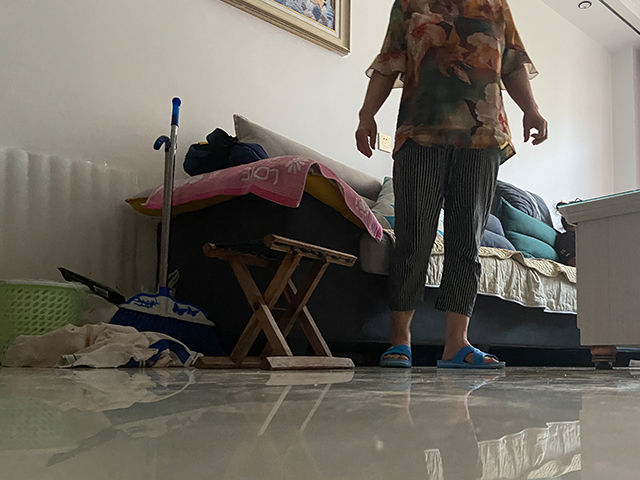sofa: (154, 111, 577, 368)
stool: (193, 232, 359, 371)
table: (555, 188, 640, 371)
trashcan: (1, 276, 90, 367)
